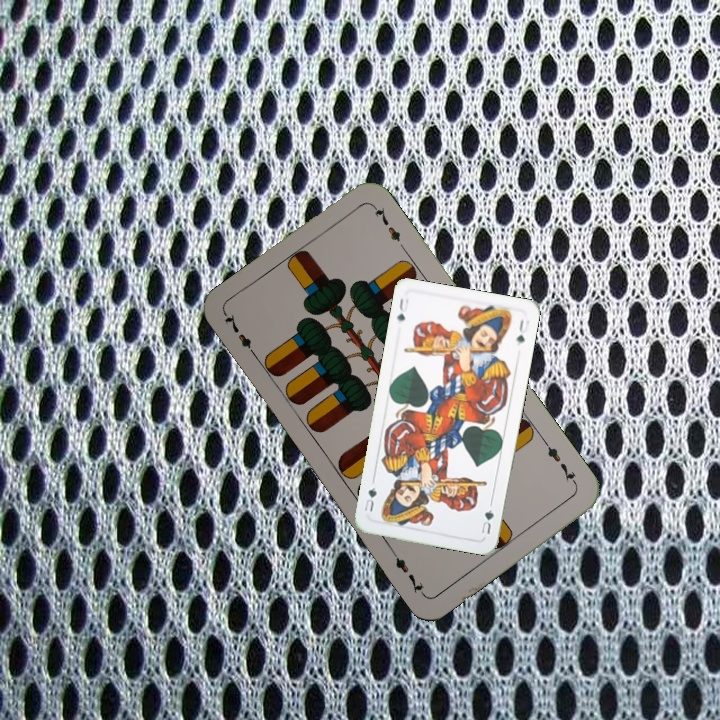E7: (220, 310, 261, 361), (540, 437, 580, 489)
GU: (477, 499, 496, 536), (393, 294, 411, 324)
